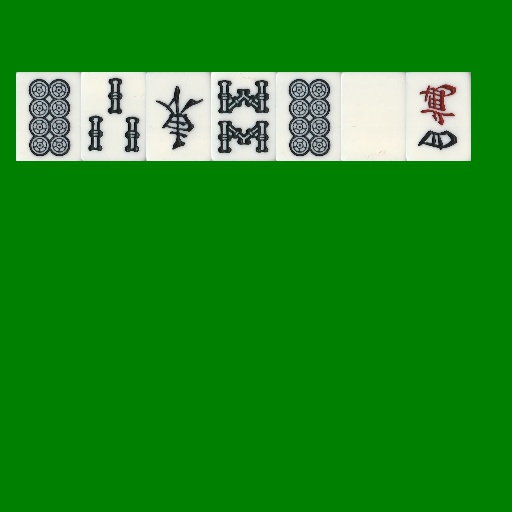3s: (81, 72, 146, 161)
4m: (406, 72, 471, 161)
8p: (16, 72, 81, 161), (276, 72, 341, 161)
8s: (211, 72, 276, 161)
east: (146, 72, 211, 161)
white: (341, 72, 406, 161)
